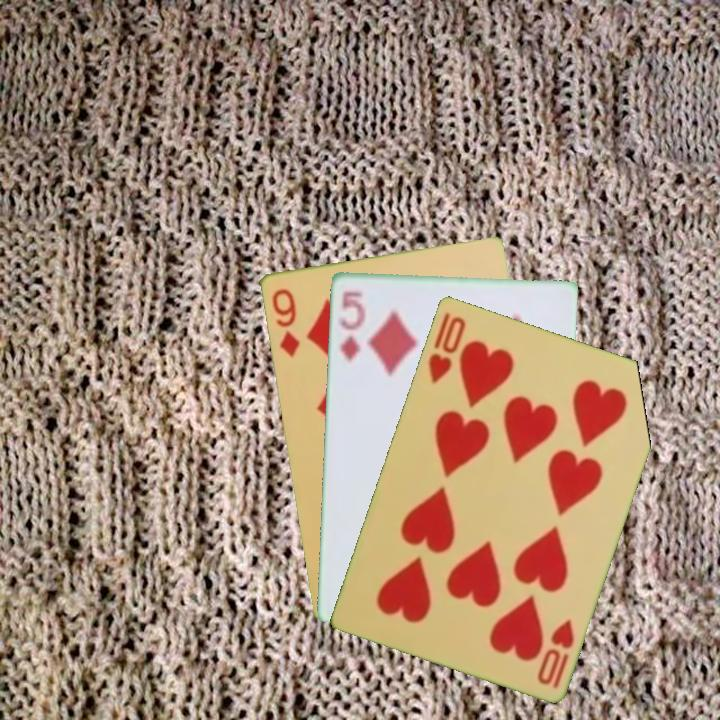10h: (424, 308, 468, 386), (533, 615, 577, 691)
5d: (336, 287, 367, 365)
9d: (267, 284, 302, 360)
